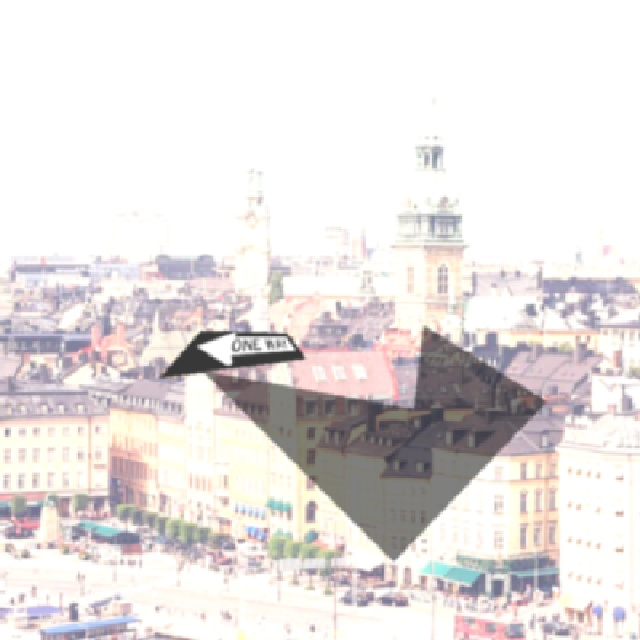ONE_WAY_ left: (157, 329, 305, 377)
